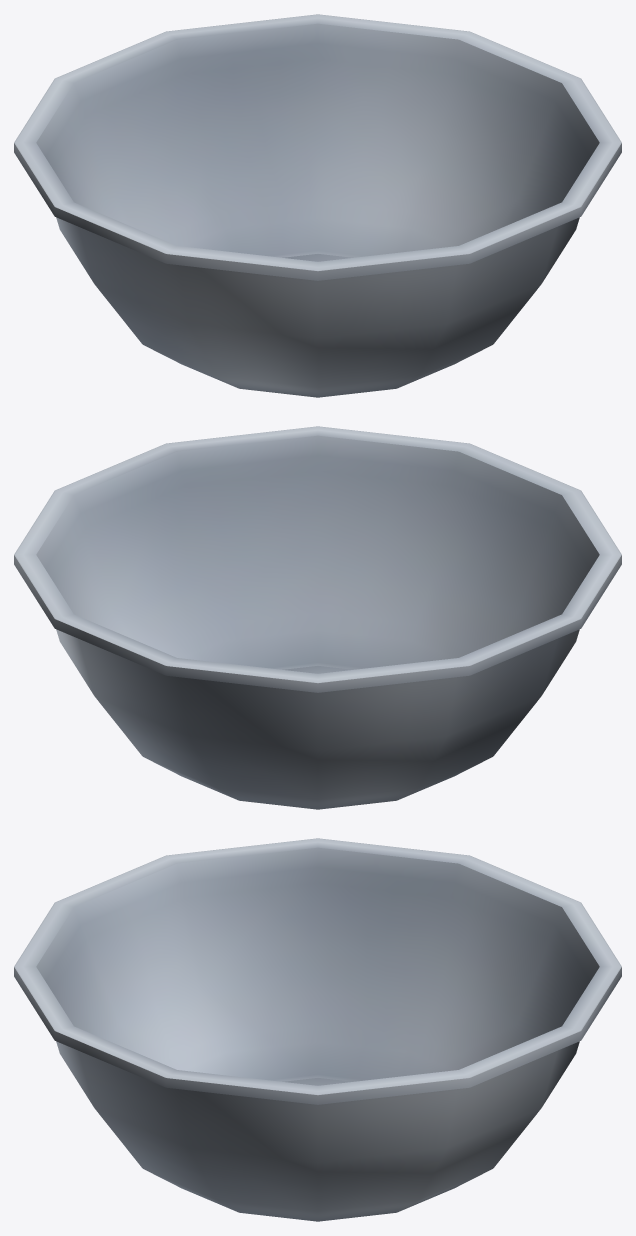
Rendered from jsf_Bowl_01.fbx.
The picture shows the model from 3 angles, top to bottom: view 1: azimuth 30°, elevation 25°; view 2: azimuth 150°, elevation 25°; view 3: azimuth 270°, elevation 25°; orthographic projection.
Visible parts, largest first — view 1: jsf_Bowl_01; view 2: jsf_Bowl_01; view 3: jsf_Bowl_01.
Part boxes in pixels (box(x1,y1,x2,y2)): jsf_Bowl_01: box(14, 14, 621, 397); jsf_Bowl_01: box(14, 426, 621, 809); jsf_Bowl_01: box(14, 838, 621, 1221).
Size of the model in its own units: 13 by 4.44 by 13.
